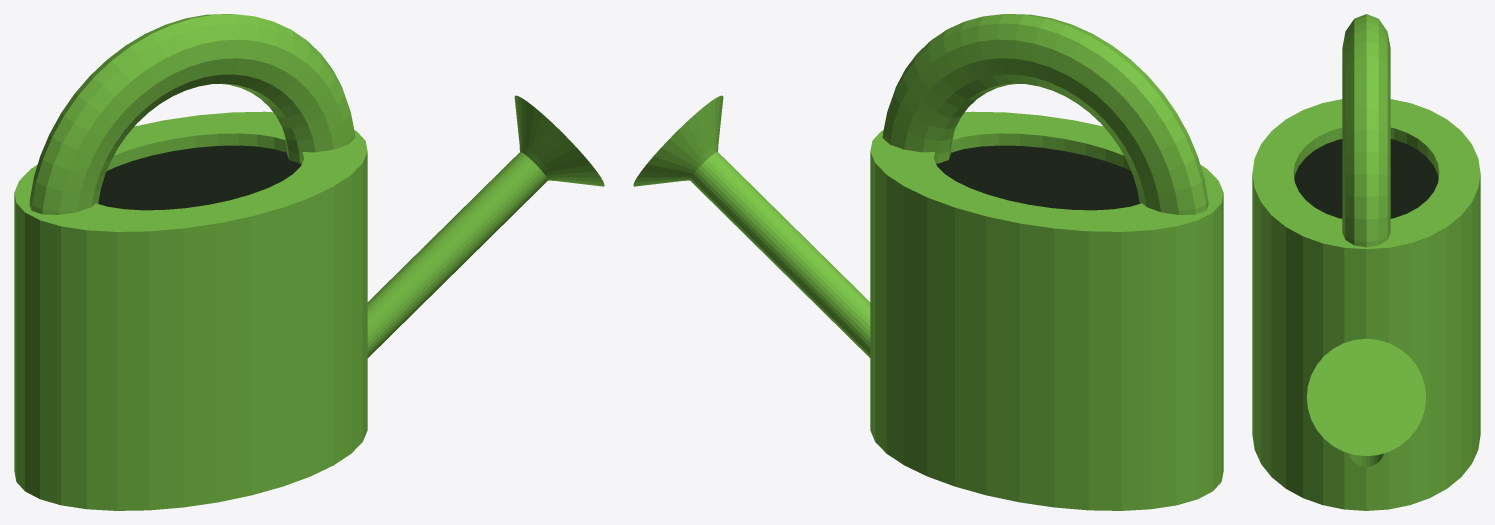
Rendered from WateringCan.fbx.
3 renders of one model, left to right at view 1: azimuth 30°, elevation 25°; view 2: azimuth 150°, elevation 25°; view 3: azimuth 270°, elevation 25°, orthographic. The views are drawn at different scales.
Visible parts, largest first — view 1: Cylinder; view 2: Cylinder; view 3: Cylinder.
Part boxes in pixels (x1,y1,x2,y2): Cylinder: (14,14,604,510); Cylinder: (633,14,1223,510); Cylinder: (1252,14,1480,510).
Size of the model in its own units: 341 by 249 by 127.
